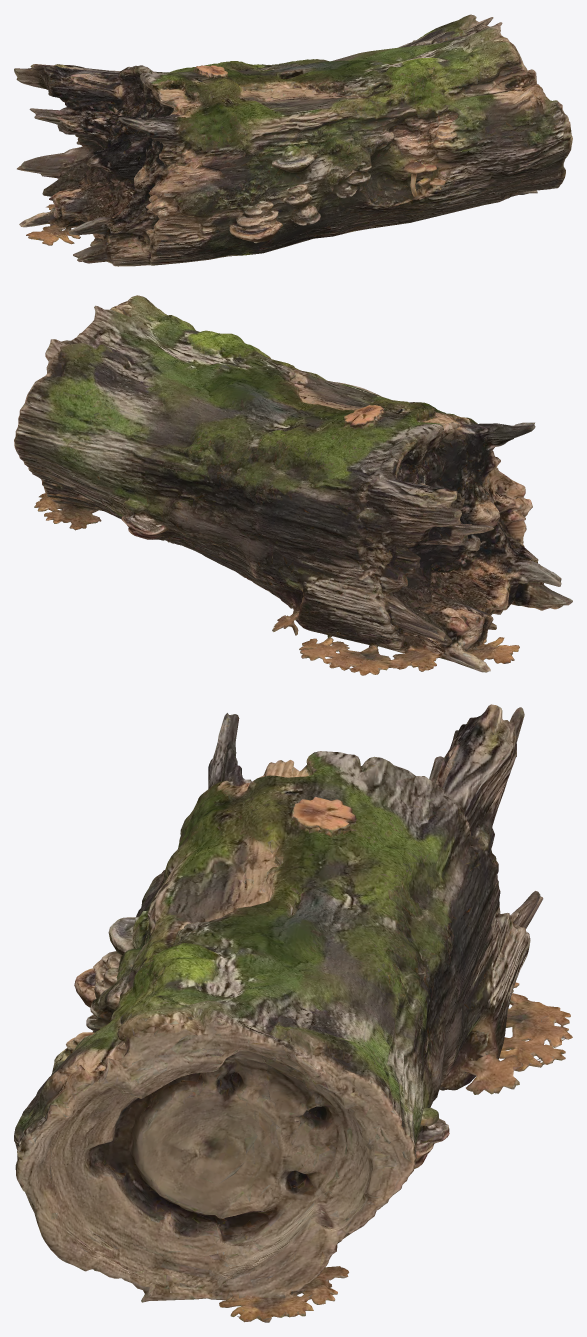
Rendered from fallen-log.glb.
The picture shows the model from 3 angles, top to bottom: view 1: azimuth 30°, elevation 25°; view 2: azimuth 150°, elevation 25°; view 3: azimuth 270°, elevation 25°; orthographic projection. The views are drawn at different scales.
Parts seen in each view (by area): view 1: Mesh_0; view 2: Mesh_0; view 3: Mesh_0.
Boxes of the visible parts, x1=… form: Mesh_0: x1=14, y1=14, x2=572, y2=266; Mesh_0: x1=14, y1=295, x2=572, y2=675; Mesh_0: x1=14, y1=704, x2=572, y2=1322.
Bounding box in the file's own units: 1.9 × 0.6503 × 1.19.
Materials: 1 (1 with a texture image).
